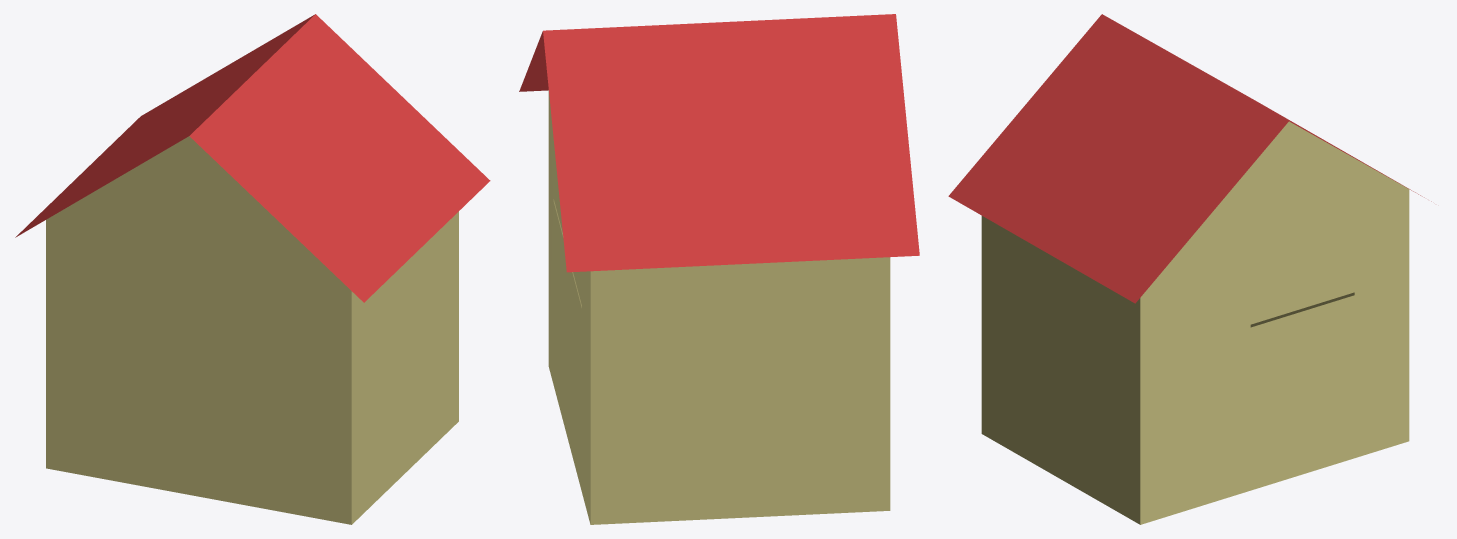
3 renders of one model, left to right at view 1: azimuth 30°, elevation 25°; view 2: azimuth 150°, elevation 25°; view 3: azimuth 270°, elevation 25°, orthographic. The views are drawn at different scales.
Size of the model in its own units: 15.09 by 15.54 by 12.83.
